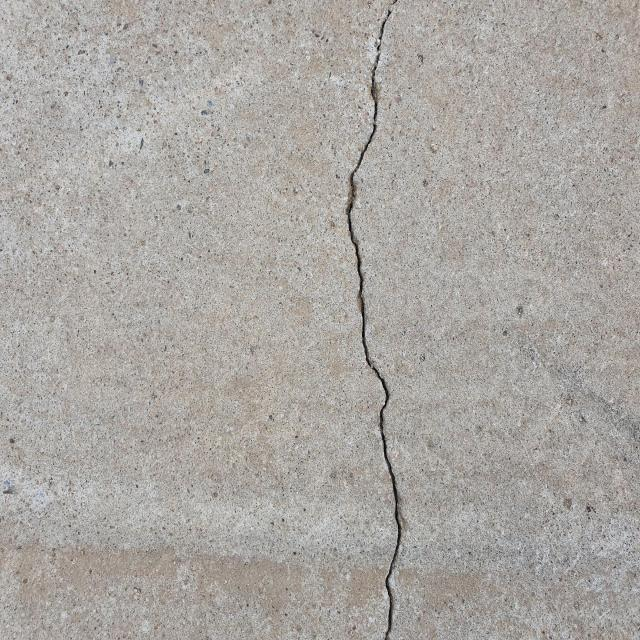SurfaceCrack: (304, 1, 444, 640)
